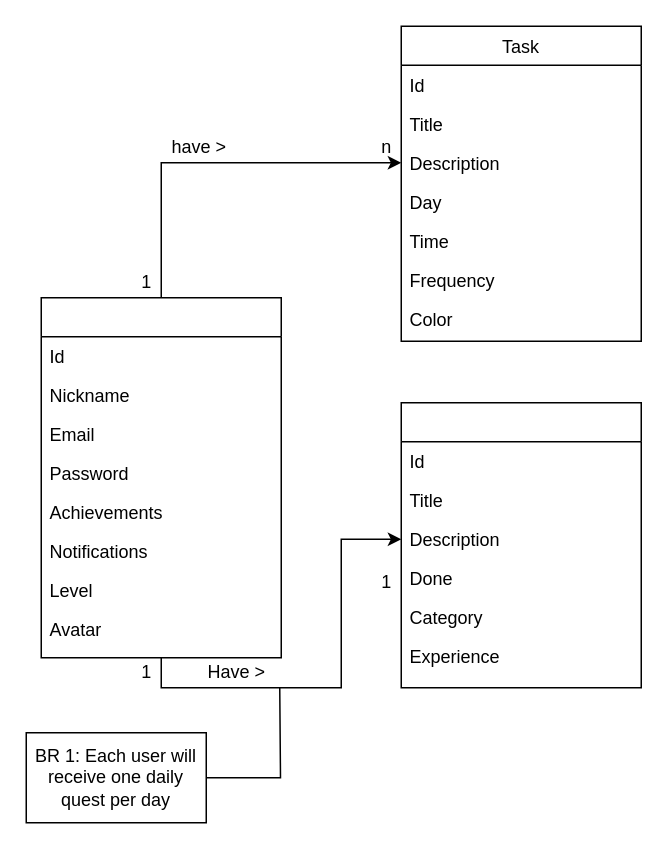
The diagram is 668 pixels wide and 849 high, and some of its shapes have lost their labels. The shapes that lost their labels are listed below. From the top down, each one's box as (x1, y1, x2, y2) in pixels, then its label:
(40, 296, 281, 658): User
(400, 401, 641, 688): Daily Quest
